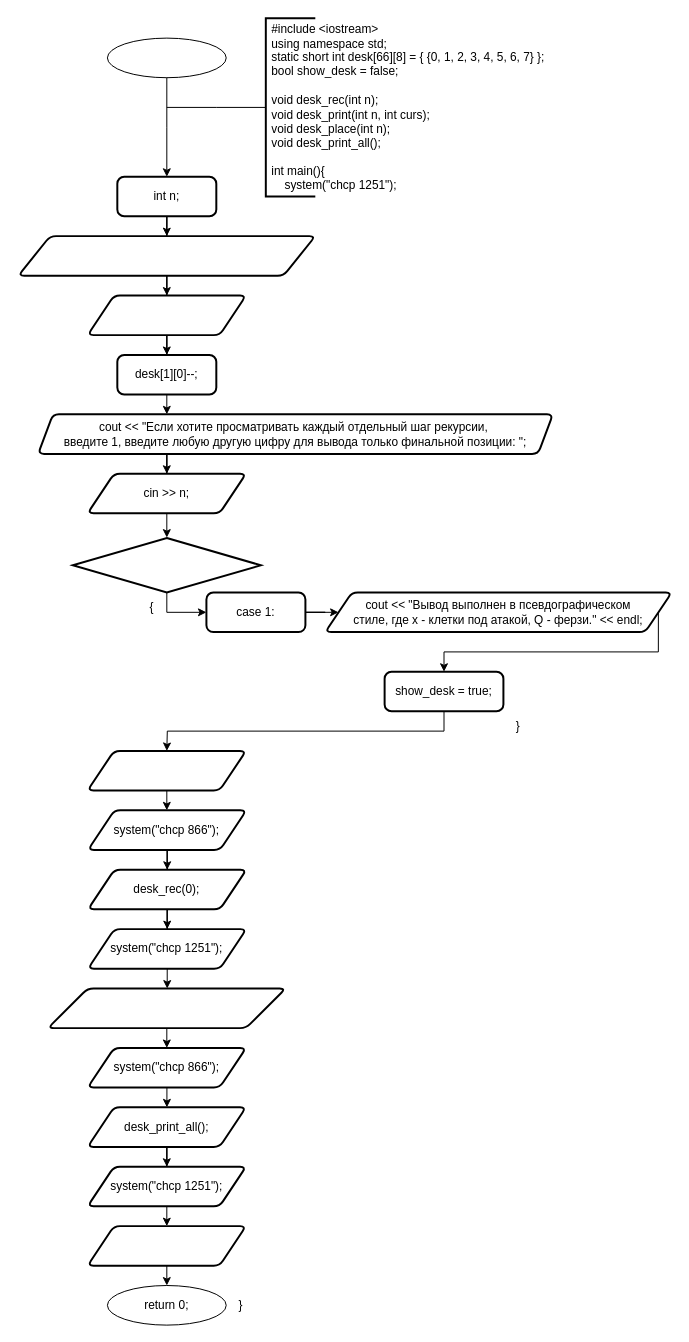
Some shapes in this 689 by 1342 pixel diagram are drawn without their labels. Here are the shapes that lost their labels. From the top down, the box of each, then its label:
(106, 37, 226, 78): start
(17, 235, 316, 276): cout << "Введите номер столбца в верхней строке, с которого хотите начать: ";
(86, 294, 247, 336): cin >> desk[1][0];
(71, 537, 261, 593): switch (n)
(86, 749, 247, 791): cout << endl;
(47, 987, 286, 1029): cout << "Финальный вариант расставления" << endl << endl;
(86, 1225, 247, 1266): system("pause");
